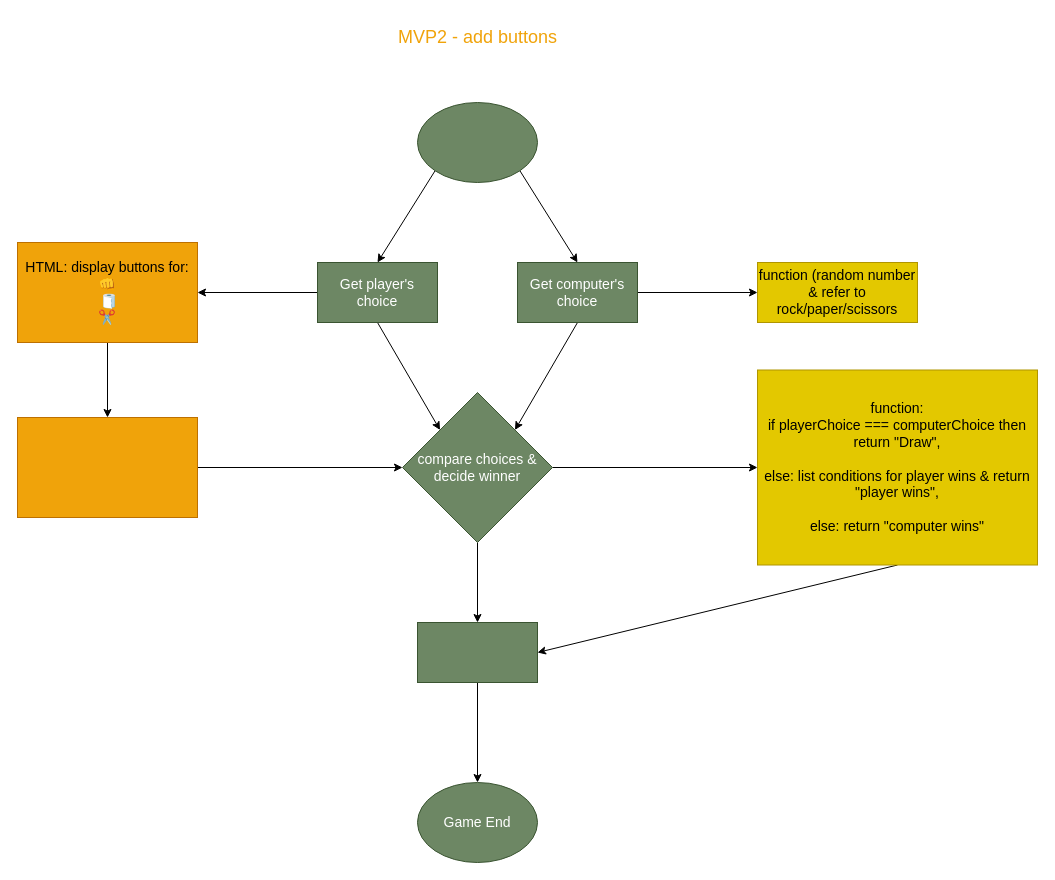
This 1055x880 diagram has some shape labels left out. Each missing label, with the centre of its shape:
"Display results" belongs at point 477,652.
"Event listener for button click and store corresponding choice to playerChoice" belongs at point 107,467.
"Game Start" belongs at point 477,142.
